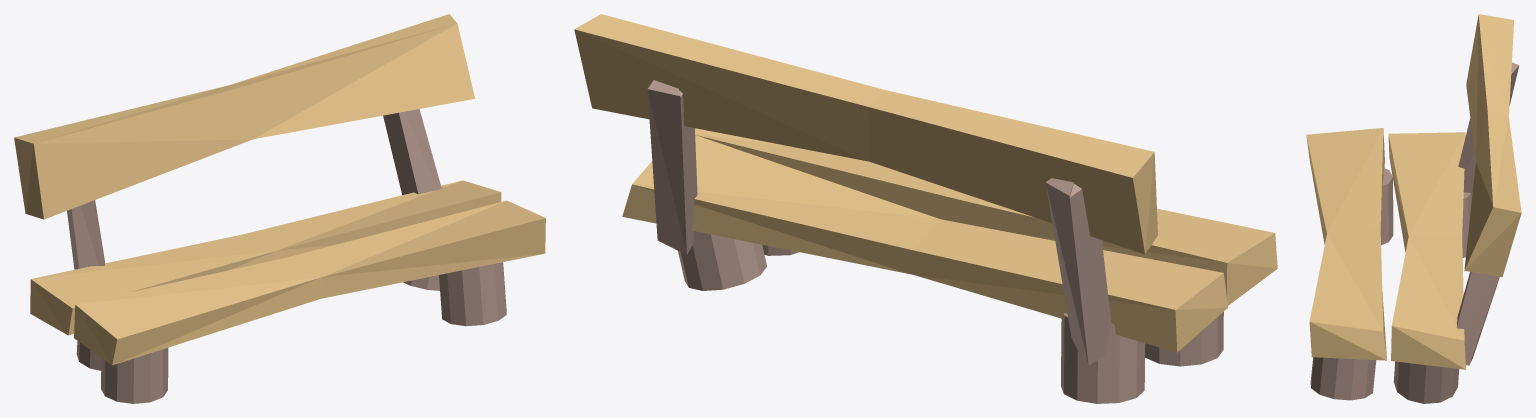
The model's file is gardenbench.gltf.
The picture shows the model from 3 angles, left to right: view 1: azimuth 30°, elevation 25°; view 2: azimuth 150°, elevation 25°; view 3: azimuth 270°, elevation 25°; orthographic projection. The views are drawn at different scales.
Parts seen in each view (by area): view 1: mesh2086105856, mesh1447054442, mesh447724109, mesh1698771934, mesh1857767654, mesh613786310, mesh361907561; view 2: mesh2086105856, mesh447724109, mesh1447054442, mesh361907561, mesh1857767654, mesh1064794239, mesh1480869683, mesh613786310; view 3: mesh447724109, mesh1447054442, mesh2086105856, mesh1698771934, mesh1480869683, mesh1857767654, mesh361907561, mesh613786310, mesh1064794239.
Part boxes in pixels (bbox=[...]): mesh2086105856: bbox=[14, 14, 474, 219]; mesh1447054442: bbox=[74, 200, 545, 365]; mesh447724109: bbox=[30, 180, 501, 335]; mesh1698771934: bbox=[439, 262, 506, 326]; mesh1857767654: bbox=[383, 109, 441, 194]; mesh613786310: bbox=[101, 348, 168, 403]; mesh361907561: bbox=[67, 200, 104, 269]; mesh2086105856: bbox=[574, 14, 1157, 254]; mesh447724109: bbox=[622, 135, 1227, 352]; mesh1447054442: bbox=[695, 128, 1277, 305]; mesh361907561: bbox=[1045, 178, 1111, 365]; mesh1857767654: bbox=[647, 80, 697, 254]; mesh1064794239: bbox=[1061, 313, 1145, 403]; mesh1480869683: bbox=[678, 231, 766, 290]; mesh613786310: bbox=[1145, 312, 1223, 366]; mesh447724109: bbox=[1388, 132, 1465, 369]; mesh1447054442: bbox=[1306, 128, 1386, 360]; mesh2086105856: bbox=[1464, 14, 1521, 277]; mesh1698771934: bbox=[1310, 357, 1376, 400]; mesh1480869683: bbox=[1393, 361, 1459, 403]; mesh1857767654: bbox=[1456, 272, 1499, 365]; mesh361907561: bbox=[1458, 62, 1519, 203]; mesh613786310: bbox=[1380, 168, 1393, 245]; mesh1064794239: bbox=[1462, 192, 1471, 257].
Bounding box in the file's own units: 1.05 × 0.5046 × 0.4535.
